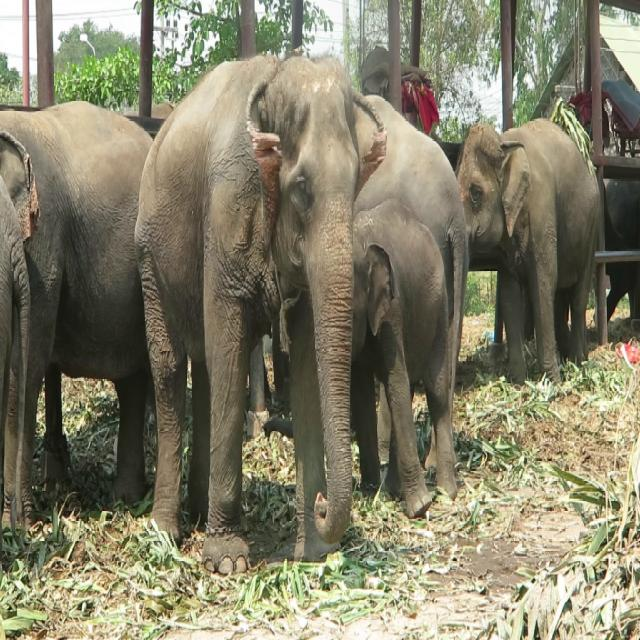Elephant: (133, 0, 371, 597), (0, 86, 159, 549), (456, 89, 626, 426), (320, 184, 455, 546)
